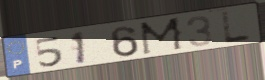1: (68, 30, 90, 65)
3: (185, 15, 214, 47)
5: (33, 34, 65, 69)
6: (109, 25, 141, 58)
L: (221, 10, 255, 45)
M: (138, 16, 186, 57)
